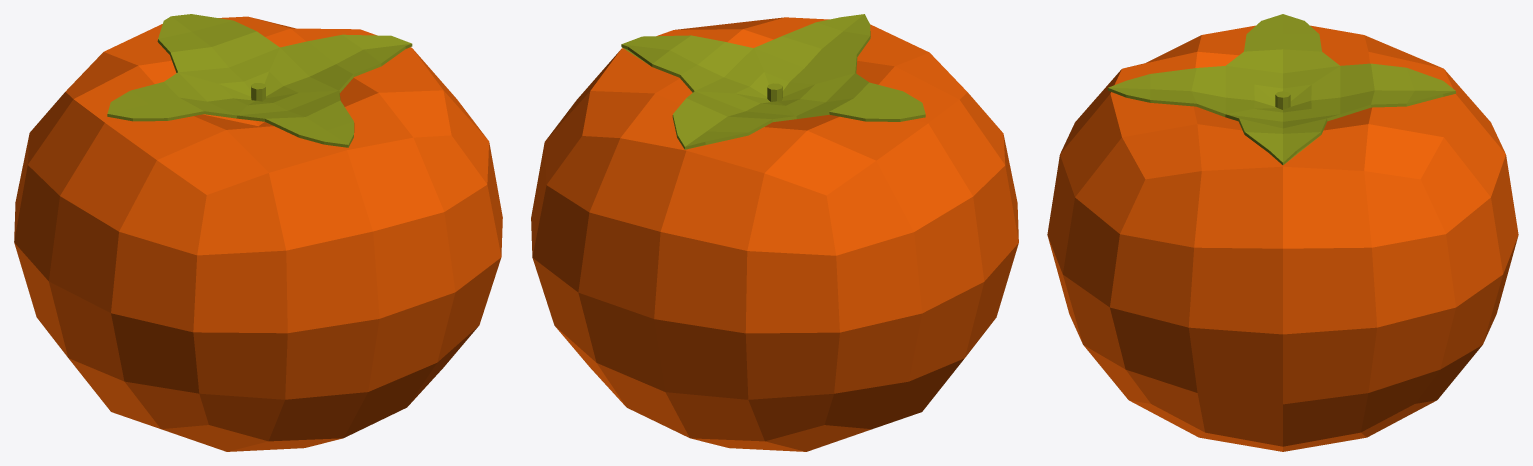
The model's file is Persimmon.fbx.
3 views of the same model, side by side, from view 1: azimuth 30°, elevation 25°; view 2: azimuth 150°, elevation 25°; view 3: azimuth 270°, elevation 25° (orthographic). The views are drawn at different scales.
Visible parts, largest first — view 1: persimmon; view 2: persimmon; view 3: persimmon.
Part boxes in pixels (<box>): persimmon: <box>14,14,502,451</box>; persimmon: <box>531,14,1018,451</box>; persimmon: <box>1047,14,1518,451</box>.
Bounding box in the file's own units: 91.5 × 73.52 × 91.5.
